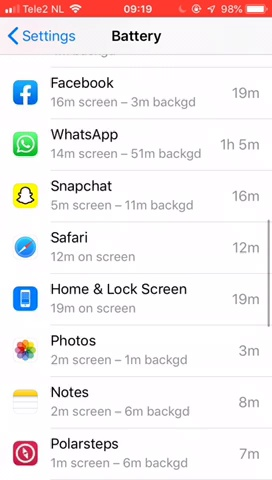app: (12, 70, 269, 110), (6, 124, 263, 164), (9, 177, 266, 217), (8, 226, 265, 266), (10, 280, 267, 320), (8, 331, 265, 371), (8, 383, 265, 423), (10, 432, 267, 472)
